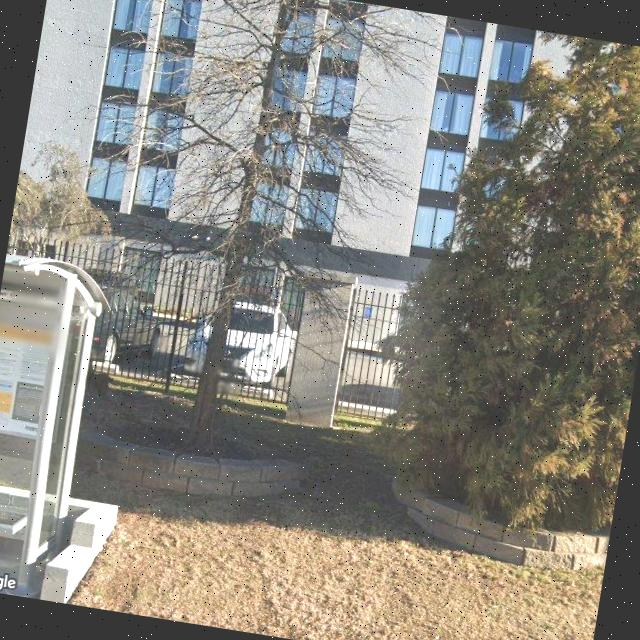seating: (0, 504, 29, 583)
shelter: (0, 247, 118, 603)
